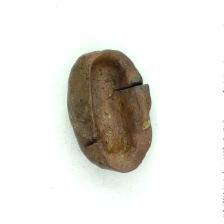NG: (88, 49, 151, 172)
